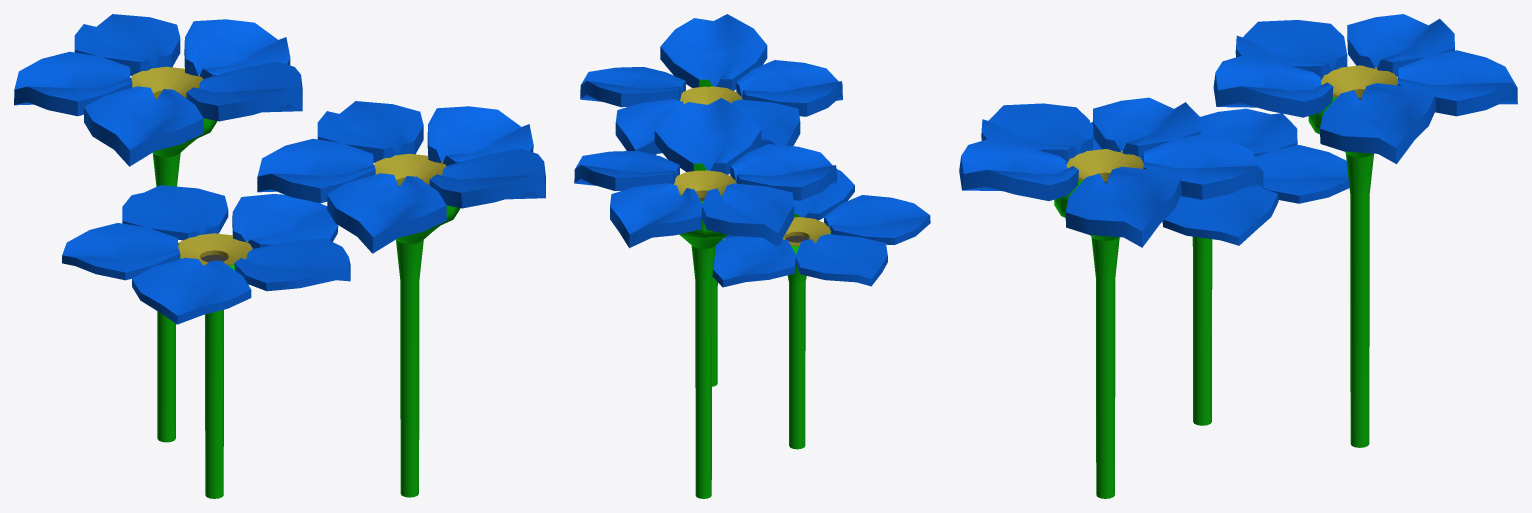
File: bloemetjes.fbx
3 views of the same model, side by side, from view 1: azimuth 30°, elevation 25°; view 2: azimuth 150°, elevation 25°; view 3: azimuth 270°, elevation 25° (orthographic). The views are drawn at different scales.
Parts seen in each view (by area): view 1: polySurface8, polySurface7, polySurface6; view 2: polySurface7, polySurface8, polySurface6; view 3: polySurface7, polySurface8, polySurface6.
Boxes of the visible parts, <box> form: polySurface8: <box>257,101,545,497</box>; polySurface7: <box>14,14,302,442</box>; polySurface6: <box>62,185,350,498</box>; polySurface7: <box>574,98,836,498</box>; polySurface8: <box>580,14,842,386</box>; polySurface6: <box>712,169,930,449</box>; polySurface7: <box>1213,14,1517,447</box>; polySurface8: <box>959,97,1263,498</box>; polySurface6: <box>1090,108,1349,425</box>.
Bounding box in the file's own units: 5.62 × 5.29 × 6.74.
